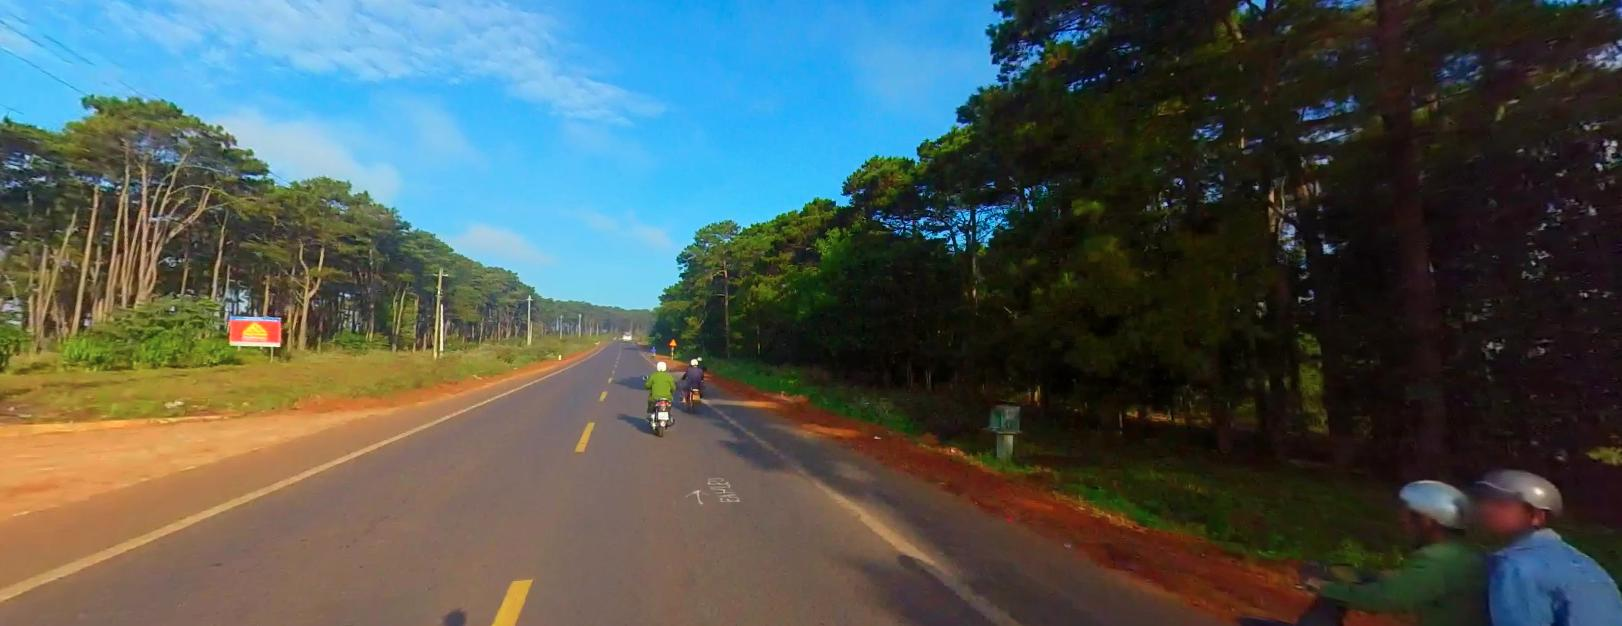Nguy hiem: (667, 336, 677, 344)
